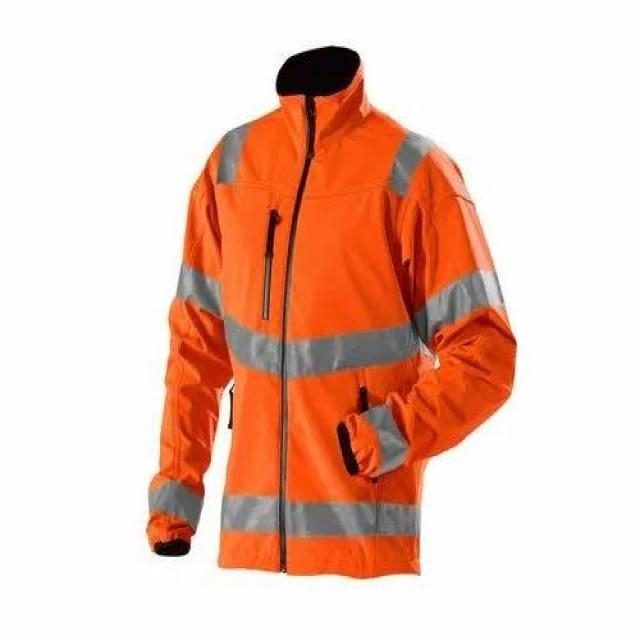Reflective-Jacket: (166, 91, 512, 592)
